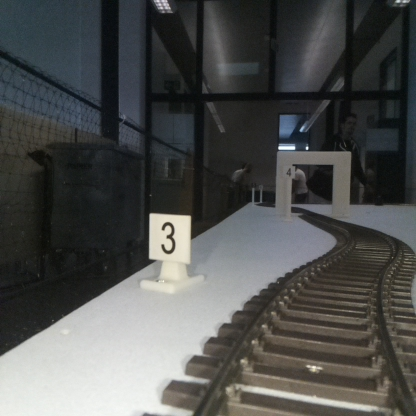white-info-4: (284, 164, 294, 218)
white-stop-3: (149, 215, 190, 291)
